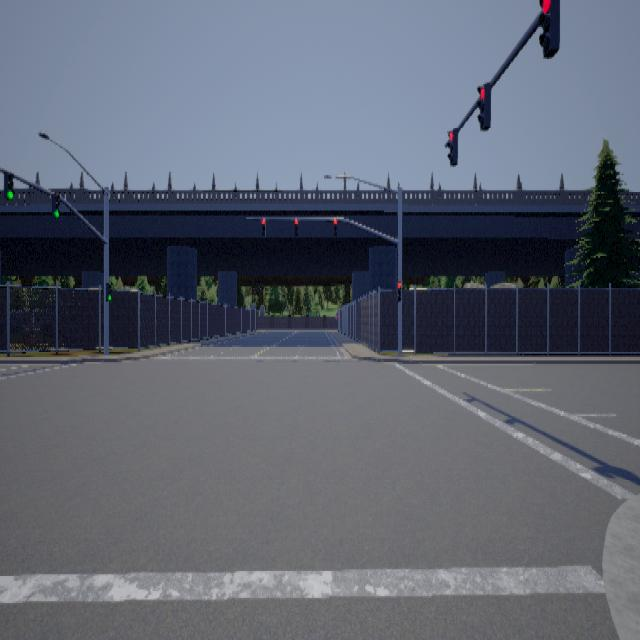green_light: (3, 170, 13, 199), (51, 192, 59, 217), (105, 283, 112, 301)
red_light: (538, 0, 559, 57), (476, 81, 490, 130), (446, 126, 457, 165), (396, 280, 400, 300), (293, 217, 297, 236), (261, 217, 265, 236), (333, 217, 336, 236)
